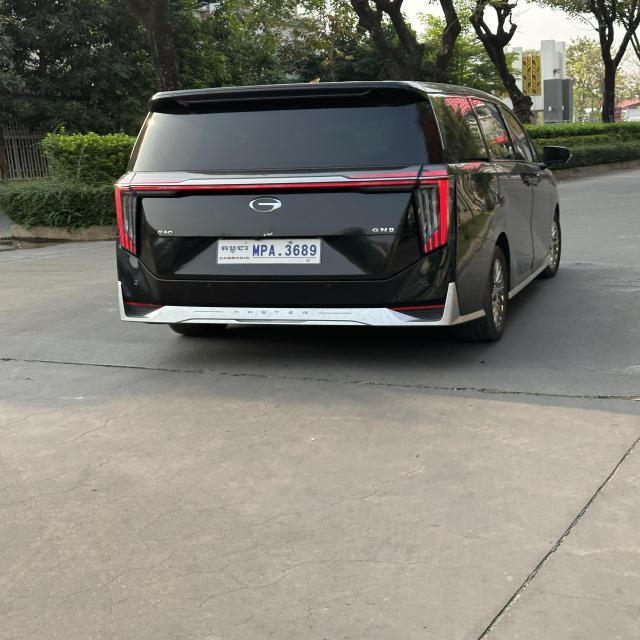Cambodia: (220, 244, 248, 254)
